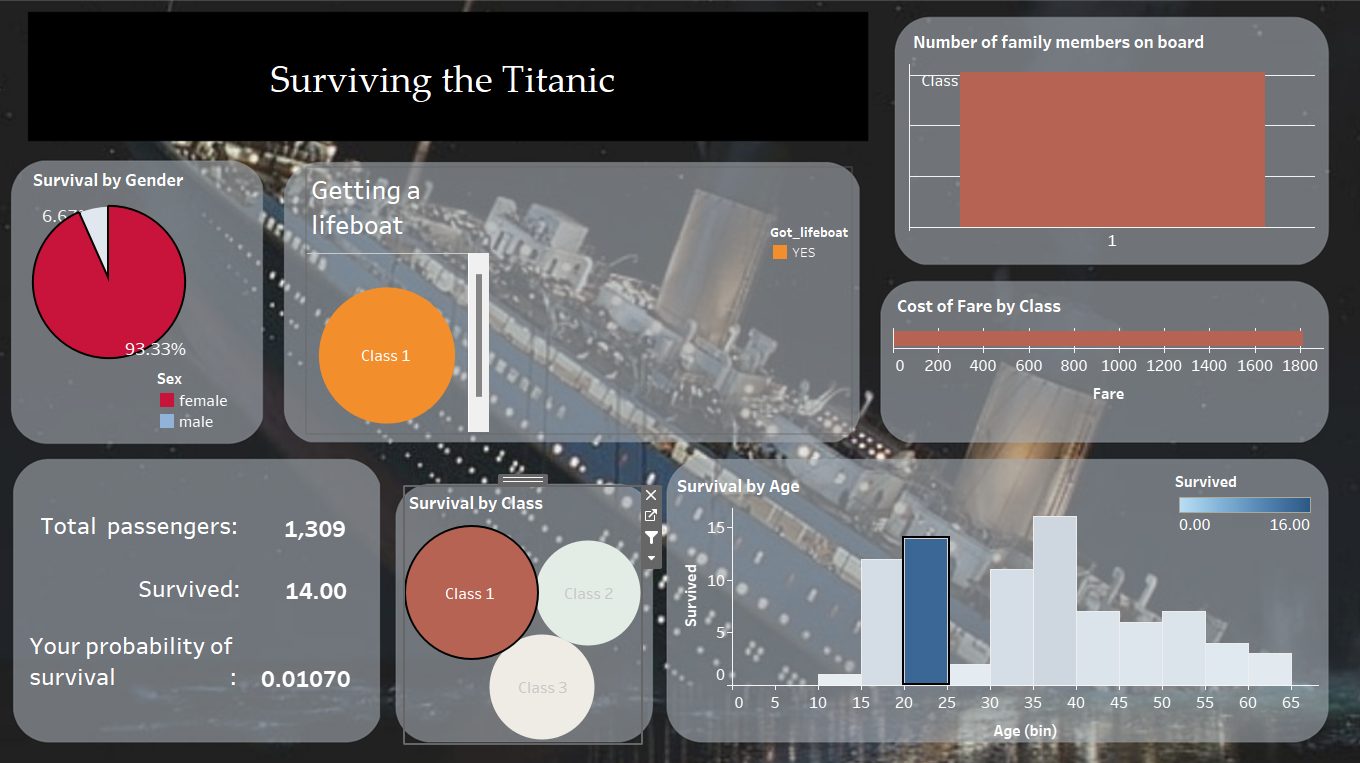

The page's visual inventory and layout, read from the dashboard file:
{"tool":"tableau","page":{"name":"Dashboard 1","canvas":[1366,768],"ordinal":0},"visuals":[{"type":"worksheet","title":"Travelled with Family","mark":"Automatic","rows":["SibSp"],"box":[912,26,406,226]},{"type":"text","box":[36,28,819,101]},{"type":"text","box":[921,65,100,30]},{"type":"worksheet","title":"Gender","mark":"Pie","box":[32,164,223,269]},{"type":"worksheet","title":"Got lifeboat?","mark":"Pie","box":[310,168,544,265]},{"type":"legend","title":"Got lifeboat?","param":"[federated.1swiexp11b0w1x1gsqjgf0mphze9].[none:Calculation_2236037283589627906:n","box":[773,223,121,61]},{"type":"worksheet","title":"Cost of ticket","mark":"Automatic","cols":["Fare"],"box":[896,290,431,193]},{"type":"legend","title":"Gender","param":"[federated.1swiexp11b0w1x1gsqjgf0mphze9].[none:Sex:nk]","box":[160,368,140,64]},{"type":"worksheet","title":"Age","mark":"Automatic","rows":["Survived"],"cols":["Age (bin)"],"box":[676,470,646,278]},{"type":"legend","title":"Age","param":"[federated.1swiexp11b0w1x1gsqjgf0mphze9].[sum:Survived:qk]","box":[1178,471,140,88]},{"type":"worksheet","title":"Survived by class","mark":"Circle","box":[408,487,236,256]},{"type":"text","box":[40,510,210,30]},{"type":"worksheet","title":"Total","mark":"Automatic","box":[274,512,89,39]},{"type":"text","box":[138,572,109,32]},{"type":"worksheet","title":"Survived","mark":"Automatic","box":[275,574,84,35]},{"type":"text","box":[29,629,227,64]},{"type":"worksheet","title":"Probability","mark":"Automatic","box":[259,662,149,43]}]}

Visuals, with their boxes in screenshot pixels (x1, y1, x2, y2), scaled from the page's 1366x768 canvas onto the 1360x763 screenshot:
"Travelled with Family" worksheet: l=908, t=26, r=1312, b=250
text: l=36, t=28, r=851, b=128
text: l=917, t=65, r=1017, b=94
"Gender" worksheet (Pie marks): l=32, t=163, r=254, b=430
"Got lifeboat?" worksheet (Pie marks): l=309, t=167, r=850, b=430
"Got lifeboat?" legend: l=770, t=222, r=890, b=282
"Cost of ticket" worksheet: l=892, t=288, r=1321, b=480
"Gender" legend: l=159, t=366, r=299, b=429
"Age" worksheet: l=673, t=467, r=1316, b=743
"Age" legend: l=1173, t=468, r=1312, b=555
"Survived by class" worksheet (Circle marks): l=406, t=484, r=641, b=738
text: l=40, t=507, r=249, b=536
"Total" worksheet: l=273, t=509, r=361, b=547
text: l=137, t=568, r=246, b=600
"Survived" worksheet: l=274, t=570, r=357, b=605
text: l=29, t=625, r=255, b=688
"Probability" worksheet: l=258, t=658, r=406, b=700
